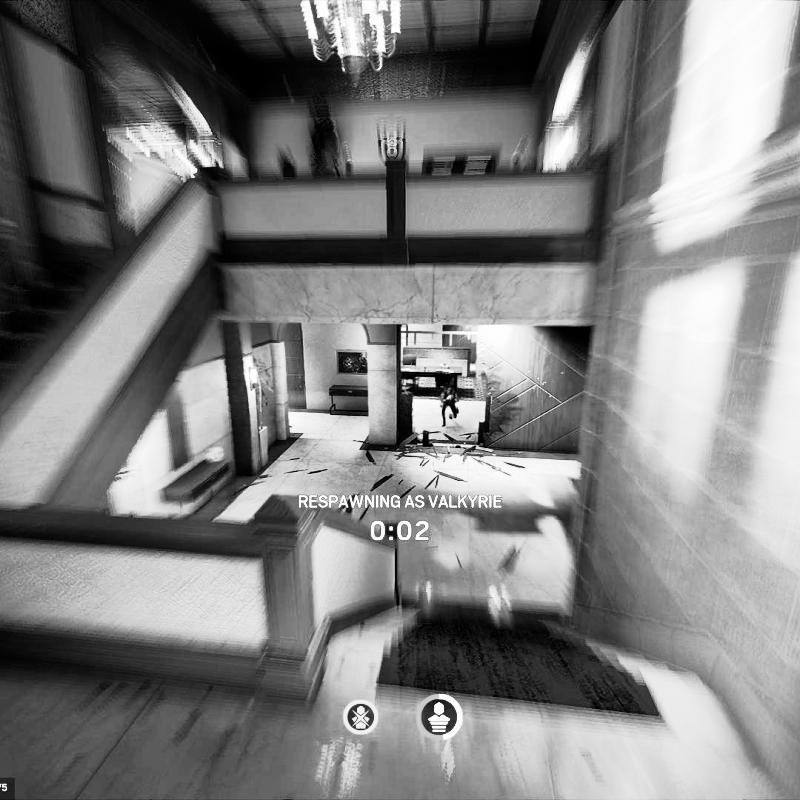Character: (438, 385, 463, 429)
Head: (446, 386, 456, 394)
